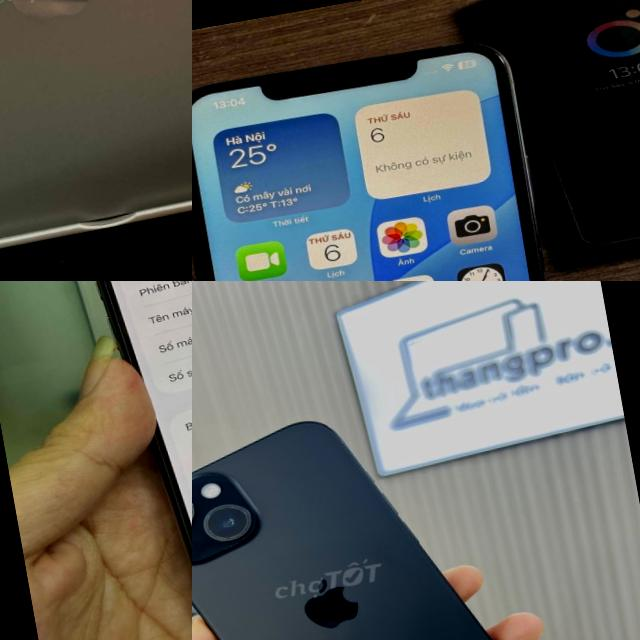gen_11: (192, 13, 610, 281)
gen_15: (192, 379, 565, 640), (0, 0, 192, 268)
gen_17: (64, 281, 192, 640)
scratch: (192, 471, 262, 557)
